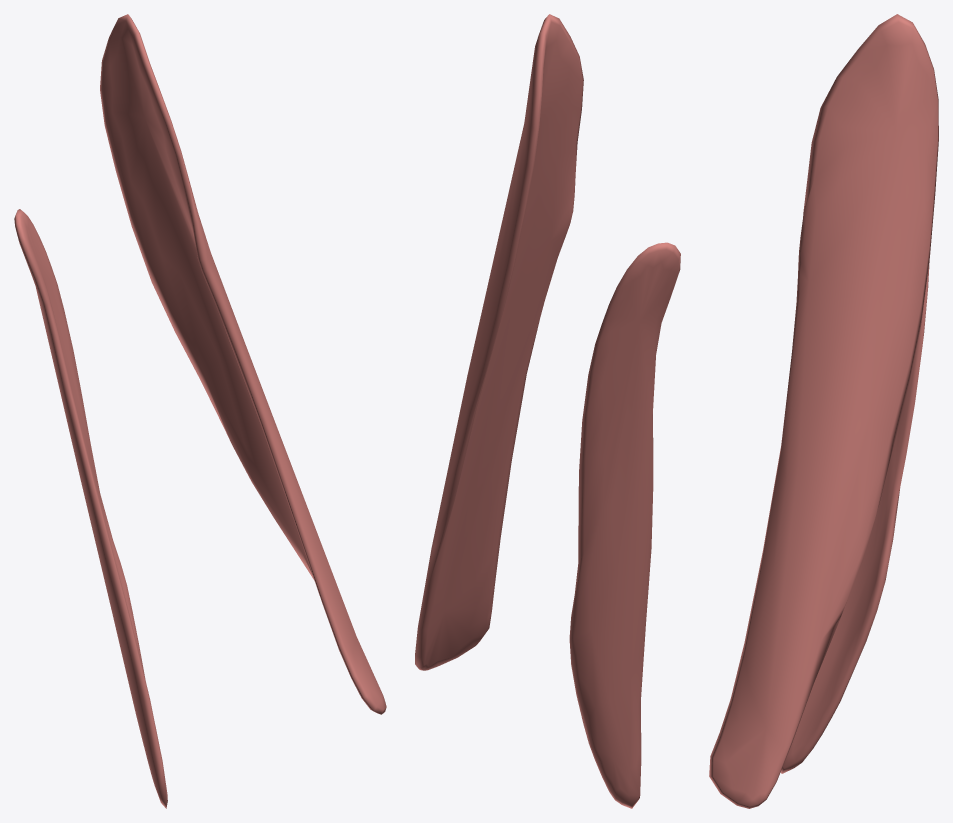
3 views of the same model, side by side, from view 1: azimuth 30°, elevation 25°; view 2: azimuth 150°, elevation 25°; view 3: azimuth 270°, elevation 25° (orthographic). The views are drawn at different scales.
Parts seen in each view (by area): view 1: ZA_5ece42969ee66faa; view 2: ZA_5ece42969ee66faa; view 3: ZA_5ece42969ee66faa.
Part boxes in pixels (<box>): ZA_5ece42969ee66faa: <box>14,14,386,808</box>; ZA_5ece42969ee66faa: <box>415,14,680,808</box>; ZA_5ece42969ee66faa: <box>709,14,938,808</box>.
Bounding box in the file's own units: 0.016 × 0.0383 × 0.0104.
